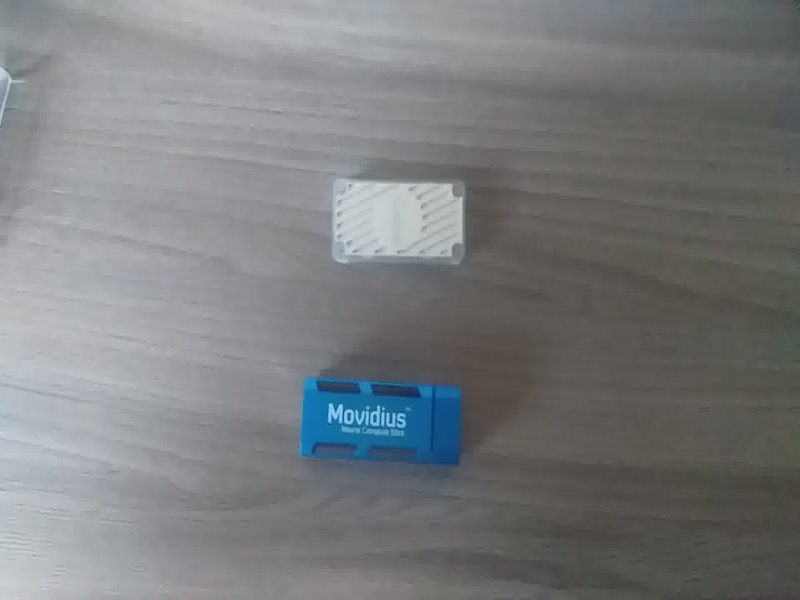coral: (322, 170, 483, 275)
movidius: (292, 372, 472, 474)
